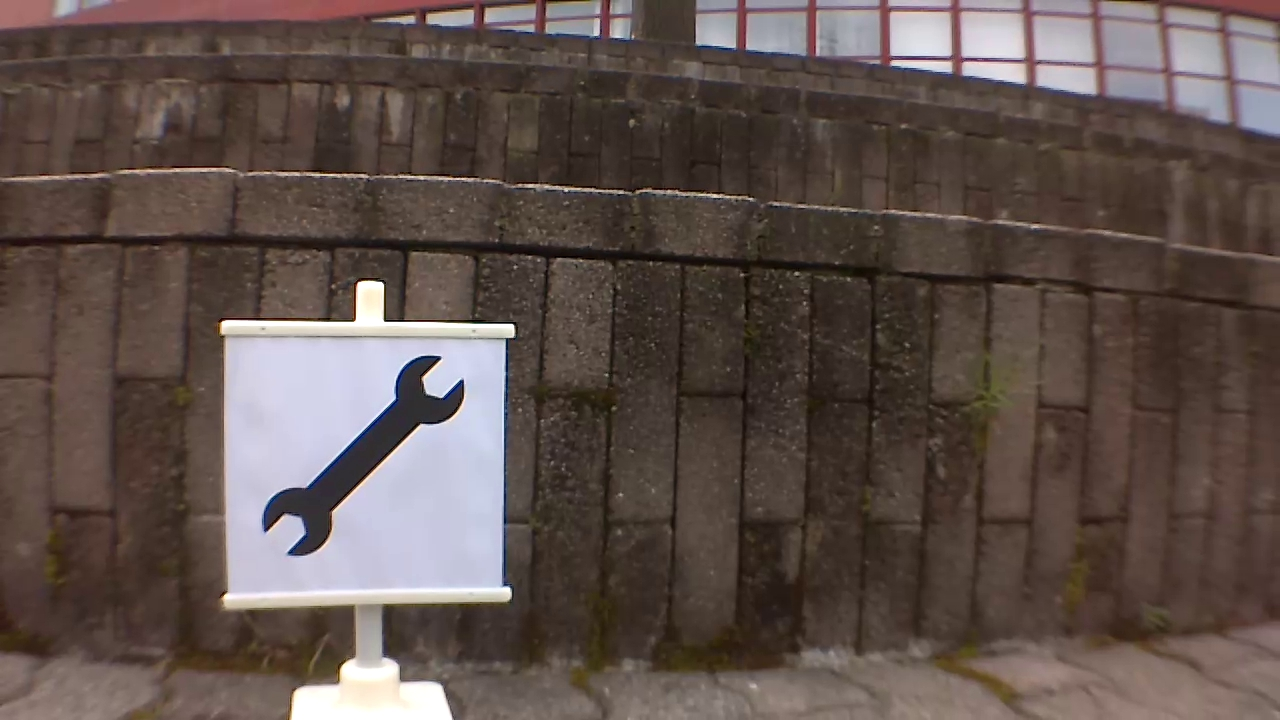wrench: (255, 351, 476, 559)
